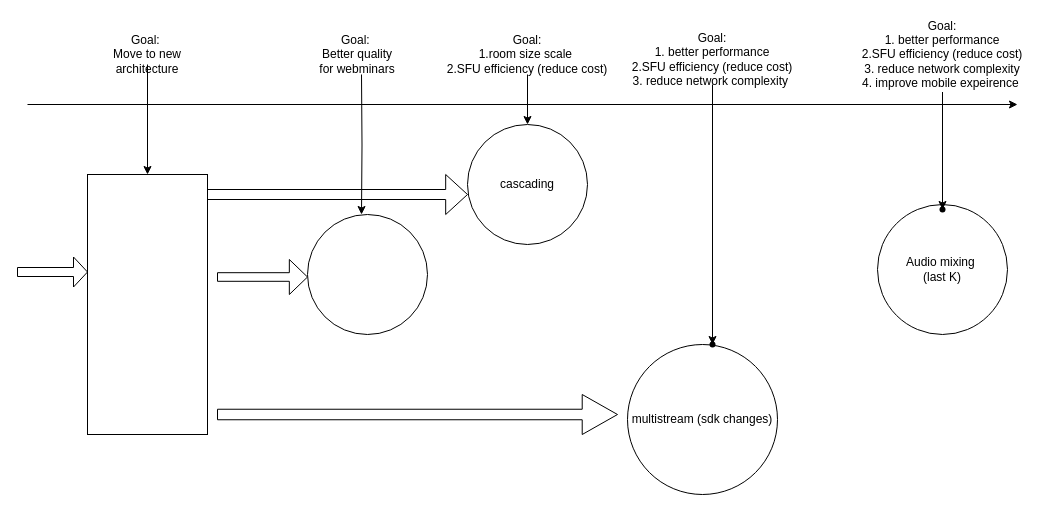
The diagram is 1045 pixels wide and 512 high, and some of its shapes have lost their labels. The centre of each missing label's shape, as x and y in pixels:
"Remove RS SDK changes larger room support" belongs at [147,304].
"Simulcast" belongs at [367,274].
